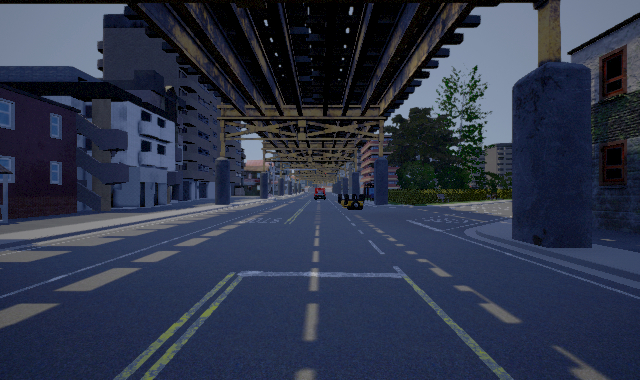vehicle: (338, 194, 365, 210), (315, 191, 326, 201)
